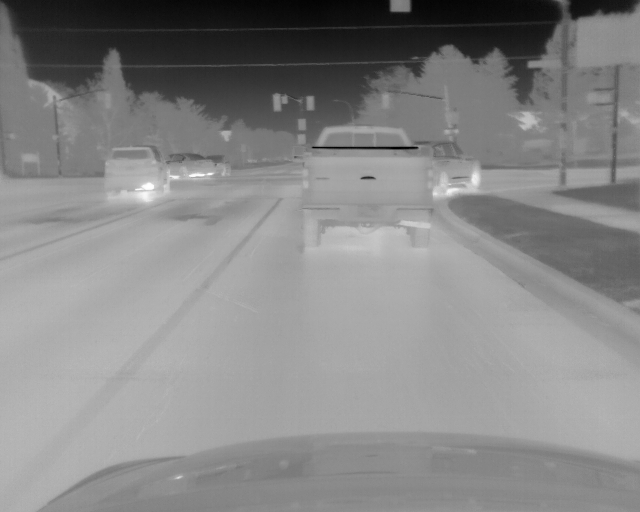car: (301, 123, 434, 248), (414, 139, 484, 194), (100, 144, 170, 199), (162, 151, 216, 181), (207, 152, 233, 180)
